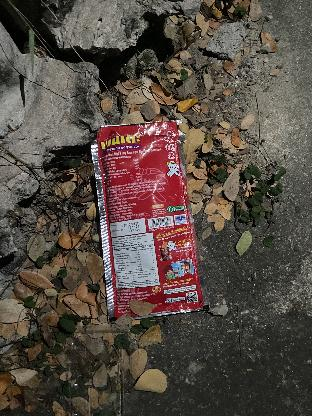Plastic Packaging: (88, 118, 214, 324)
